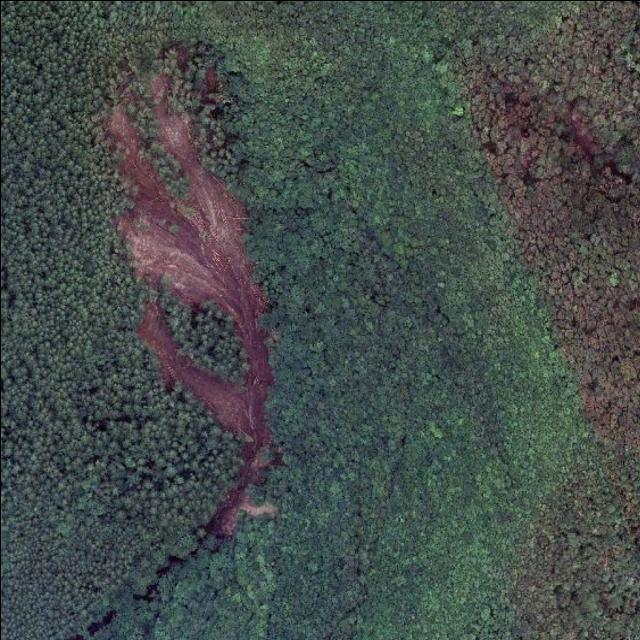landslide: (104, 73, 274, 534)
